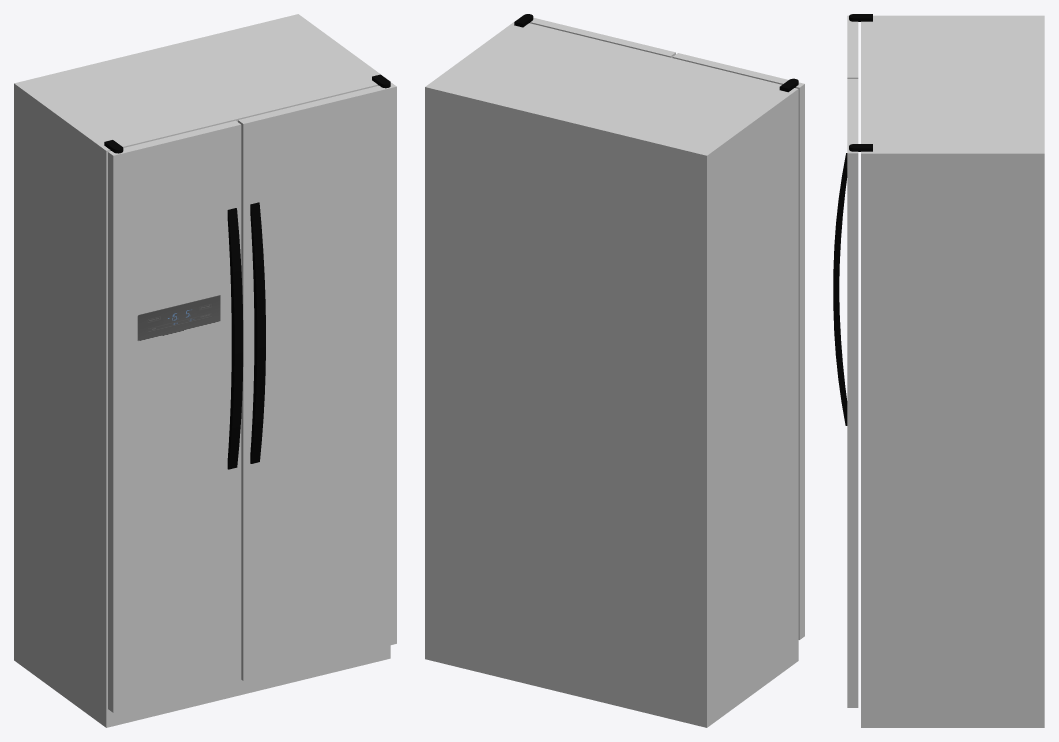
File: Fridge.FBX
The picture shows the model from 3 angles, left to right: view 1: azimuth 30°, elevation 25°; view 2: azimuth 150°, elevation 25°; view 3: azimuth 270°, elevation 25°; orthographic projection.
Parts seen in each view (by area): view 1: Fridge; view 2: Fridge; view 3: Fridge.
Boxes of the visible parts, left/top/right/bottom form: Fridge: left=14, top=14, right=396, bottom=727; Fridge: left=425, top=14, right=804, bottom=727; Fridge: left=833, top=14, right=1044, bottom=727.
Bounding box in the file's own units: 930 × 1814 × 601.
Materials: 2 (1 with a texture image).
